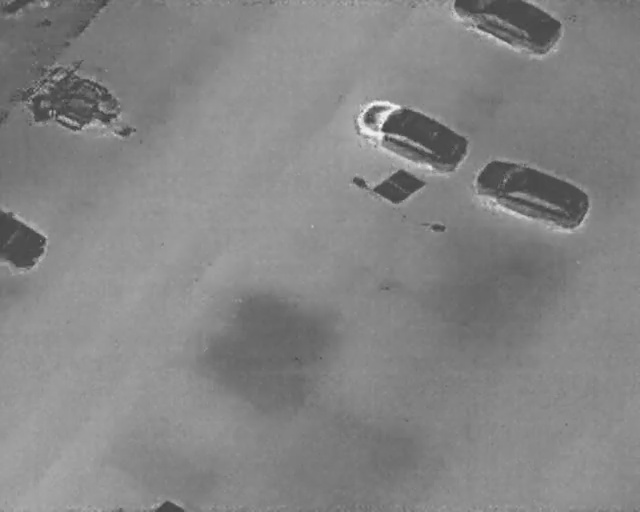Car: (348, 86, 478, 181), (467, 147, 598, 238), (451, 0, 566, 57), (0, 206, 51, 276)
DontCare: (24, 65, 136, 140)
